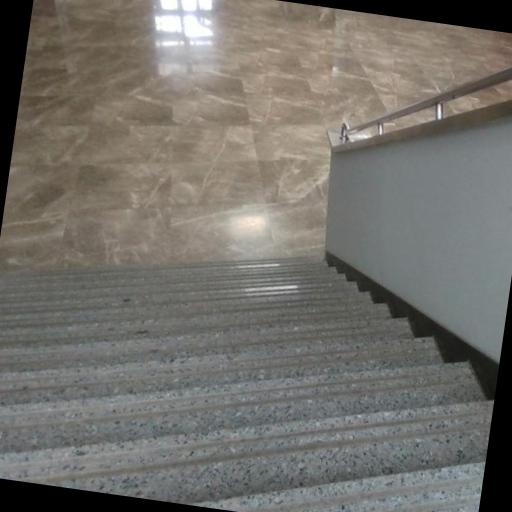stairs: (0, 258, 493, 511)
